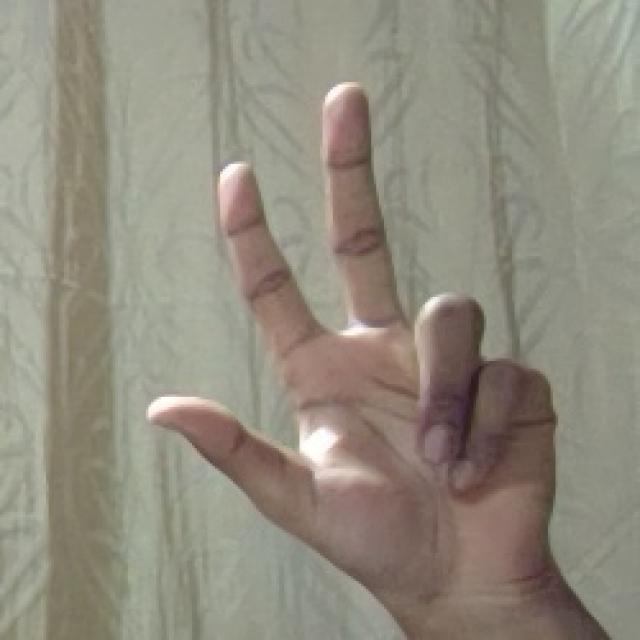Numeric-3: (148, 72, 556, 586)
